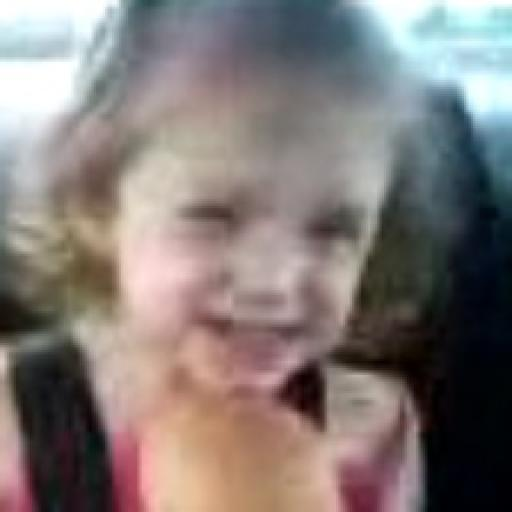Autism: (79, 19, 496, 408)
